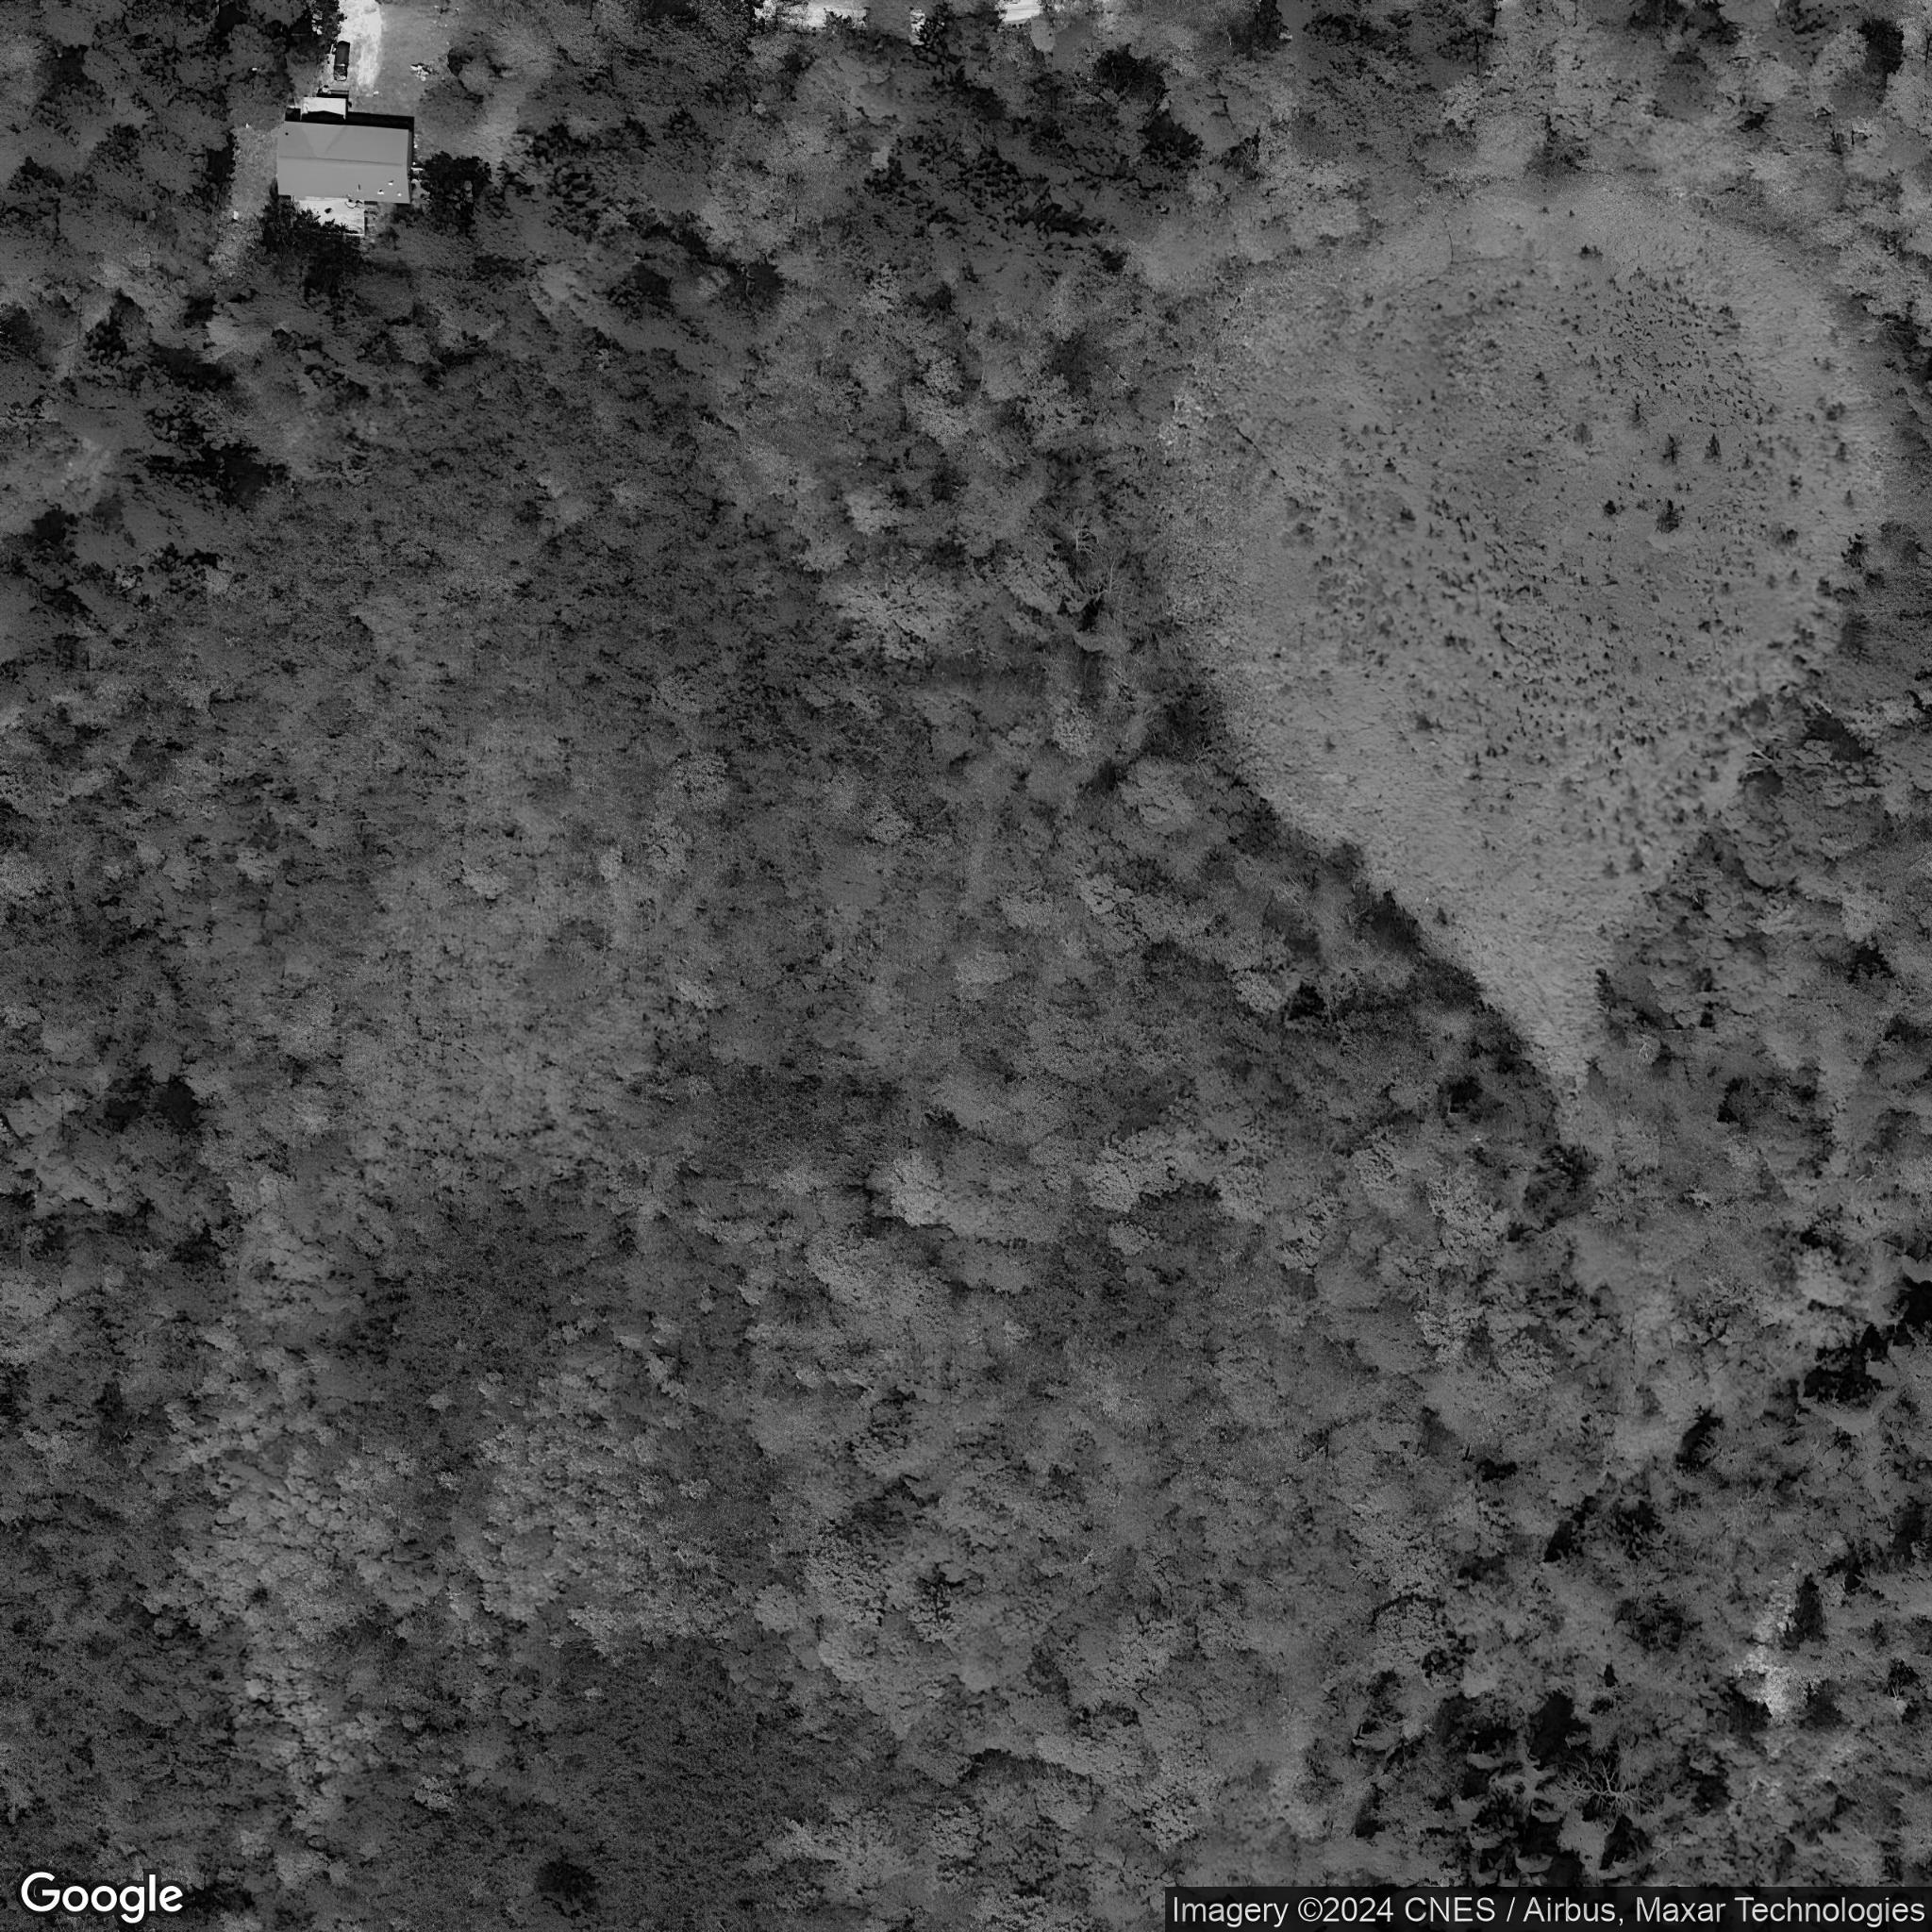House: (274, 119, 416, 205)
